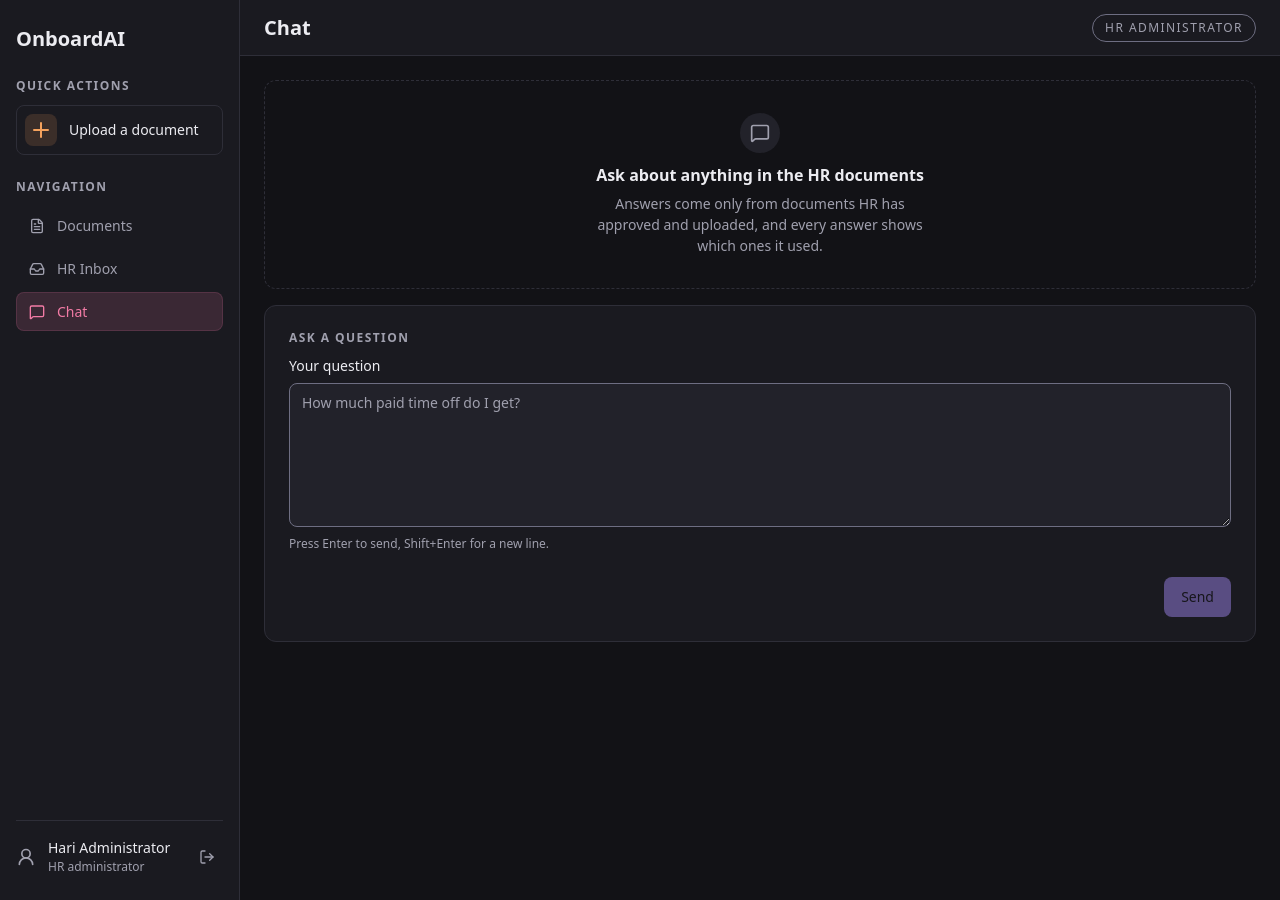
Test case: navigating › follows the quick action
Click the button "Upload a document".
click(120, 130)  # box [16,105,223,155]
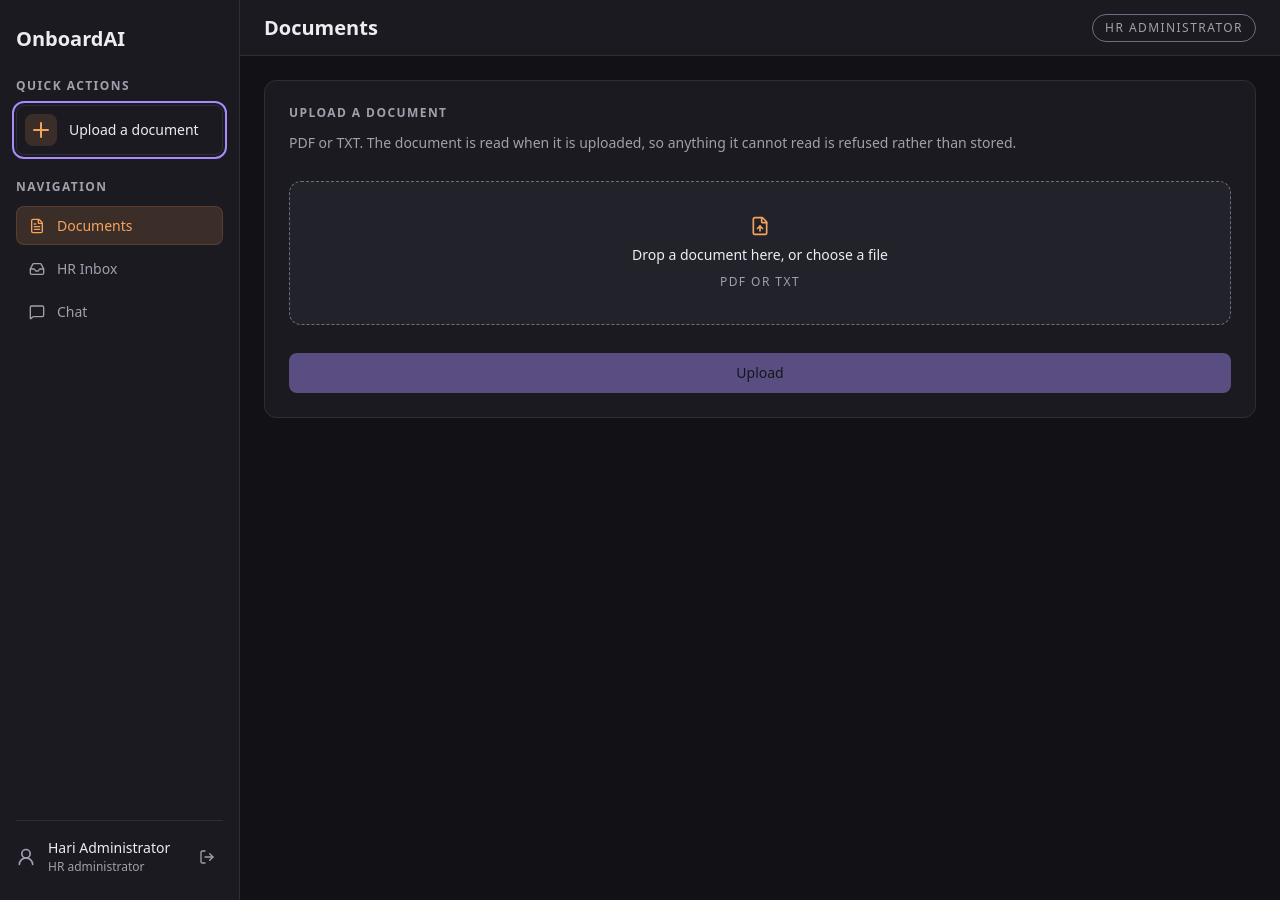
Expected: the heading "Documents" is shown, [264,15,378,40]
